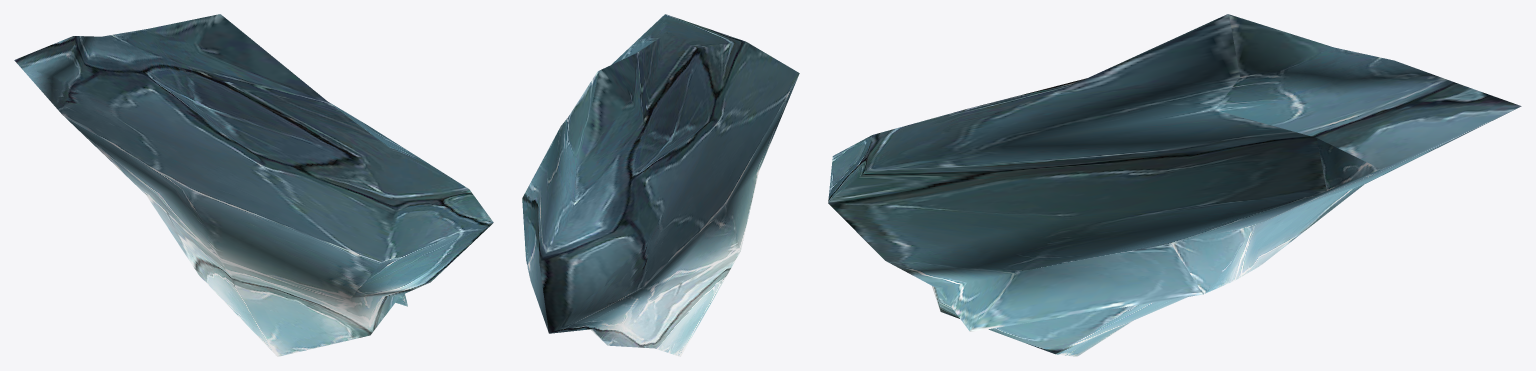
File: IceShard (1).fbx
3 renders of one model, left to right at view 1: azimuth 30°, elevation 25°; view 2: azimuth 150°, elevation 25°; view 3: azimuth 270°, elevation 25°, orthographic. The views are drawn at different scales.
Visible parts, largest first — view 1: ice (2); view 2: ice (2); view 3: ice (2).
Boxes of the visible parts, x1=… form: ice (2): x1=14, y1=14, x2=493, y2=356; ice (2): x1=522, y1=14, x2=799, y2=356; ice (2): x1=828, y1=14, x2=1521, y2=356.
Bounding box in the file's own units: 0.8727 × 1.21 × 2.2.
